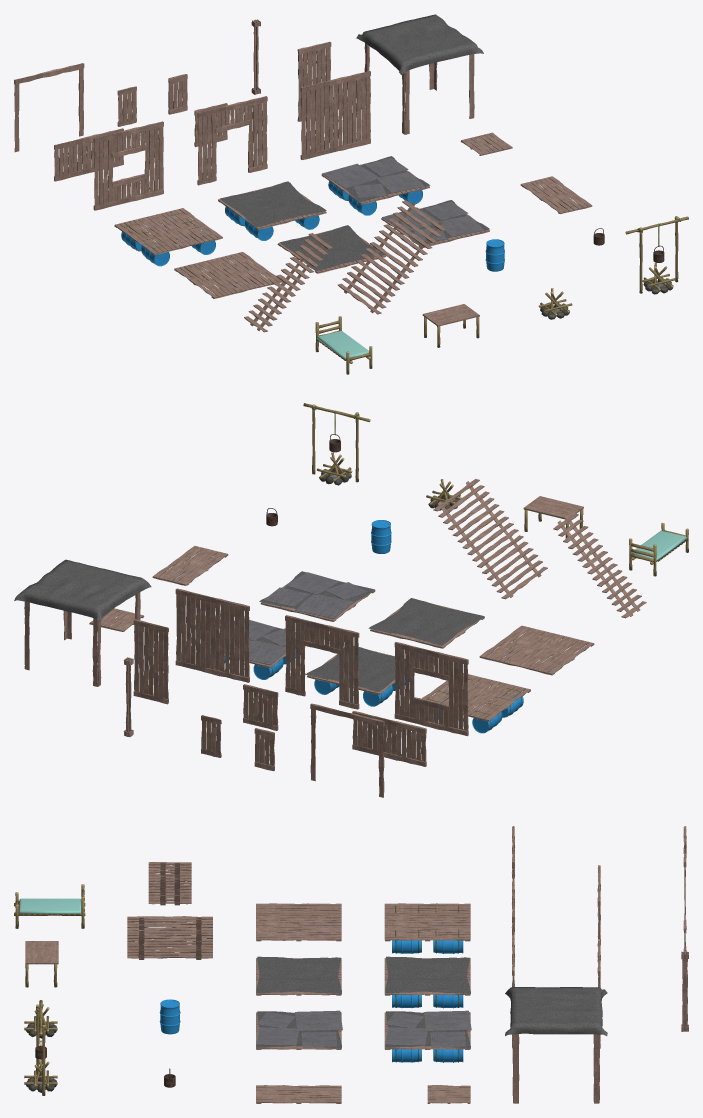
File: WoodenPack.obj
The picture shows the model from 3 angles, top to bottom: view 1: azimuth 30°, elevation 25°; view 2: azimuth 150°, elevation 25°; view 3: azimuth 270°, elevation 25°; orthographic projection. The views are drawn at different scales.
Visible parts, largest first — view 1: HighPlatformer, Wall, WallWindows, Stairs, Foundation3, WallDoor, Foundation2, Foundation1, Platformer1, Platformer2, Platformer3, Stair1/2 (+11 smaller); view 2: HighPlatformer, Wall, WallWindows, Stairs, WallDoor, Platformer3, Platformer2, Platformer1, Foundation1, Foundation2, Wall1/2_2, Wall1/2 (+11 smaller); view 3: HighPlatformer, Foundation3, Foundation1, Foundation2, Stairs, Platformer3, Platformer1, Platformer2, Stair1/2, Platformer1/2, Bed, CampfireWithPan (+5 smaller).
Boxes of the visible parts, x1,y1,x2,y2 form: HighPlatformer: (356, 14, 483, 134); Wall: (300, 71, 370, 159); WallWindows: (93, 121, 163, 210); Stairs: (337, 200, 445, 314); Foundation3: (321, 156, 430, 215); WallDoor: (197, 96, 267, 185); Foundation2: (218, 181, 326, 240); Foundation1: (114, 208, 222, 266); Platformer1: (174, 252, 282, 298); Platformer2: (277, 225, 386, 273); Platformer3: (381, 200, 489, 247); Stair1/2: (244, 233, 332, 332); HighPlatformer: (14, 559, 151, 686); Wall: (175, 588, 249, 682); WallWindows: (394, 642, 468, 736); Stairs: (433, 479, 547, 599); WallDoor: (285, 615, 359, 709); Platformer3: (259, 571, 375, 621); Platformer2: (368, 598, 484, 648); Platformer1: (479, 625, 594, 675); Foundation1: (421, 673, 530, 733); Foundation2: (305, 646, 409, 706); Wall1/2_2: (133, 619, 168, 704); Wall1/2: (352, 711, 426, 766); HighPlatformer: (505, 987, 607, 1103); Foundation3: (384, 1010, 471, 1062); Foundation1: (384, 903, 470, 953); Foundation2: (384, 956, 470, 1008); Stairs: (127, 916, 212, 959); Platformer3: (256, 1010, 342, 1049); Platformer1: (256, 903, 341, 941); Platformer2: (256, 956, 341, 995); Stair1/2: (148, 862, 191, 905); Platformer1/2: (256, 1085, 341, 1103); Bed: (14, 884, 85, 928); CampfireWithPan: (24, 1000, 57, 1095).
Bounding box in the file's own units: 16.81 × 3.84 × 23.59.
